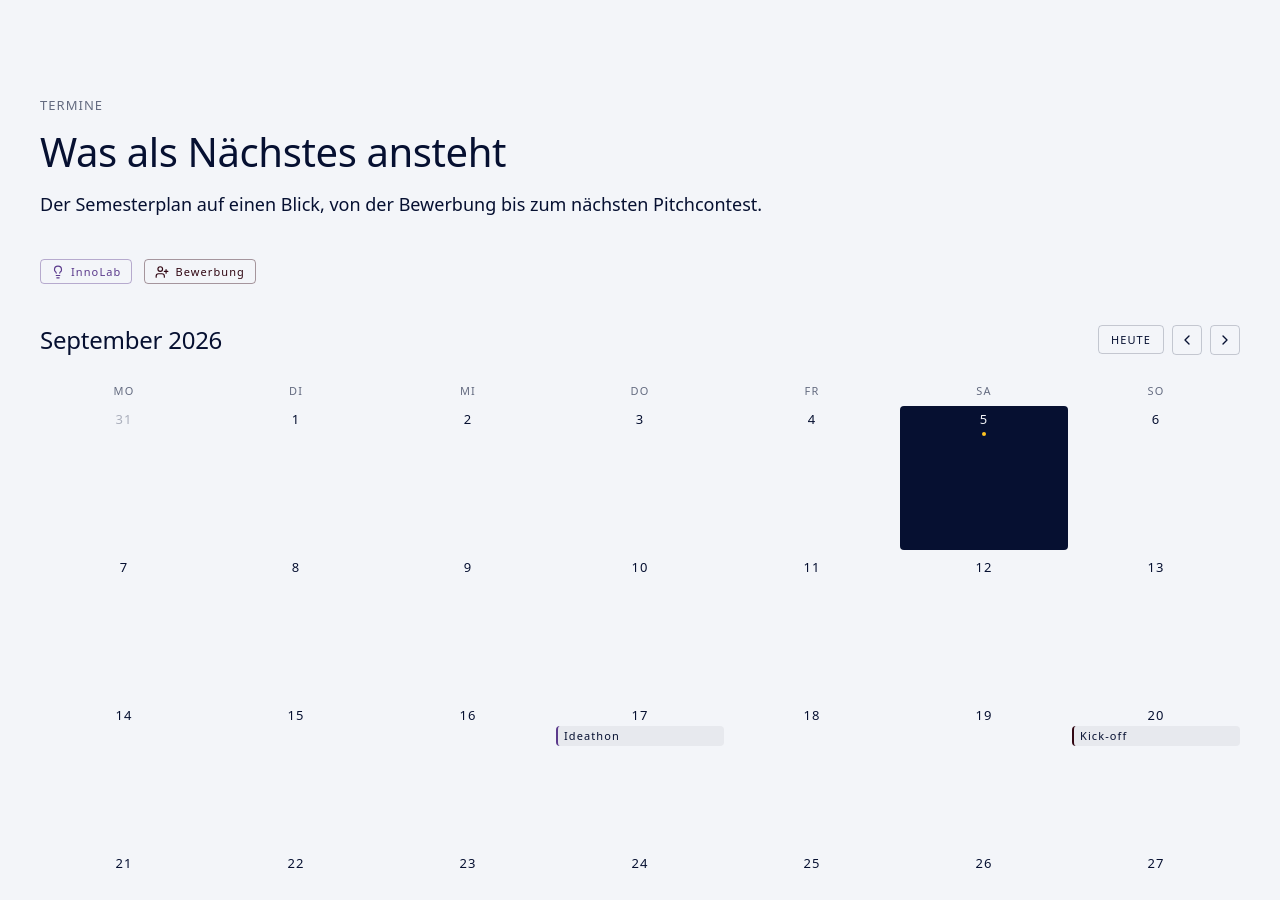
it: EventCalendar › selecting every visible category is equivalent to selecting none — a union, not an intersection
The width and height of the screenshot is (1280, 900).
Click the button "InnoLab".
click(86, 272)  # box [40,259,132,285]
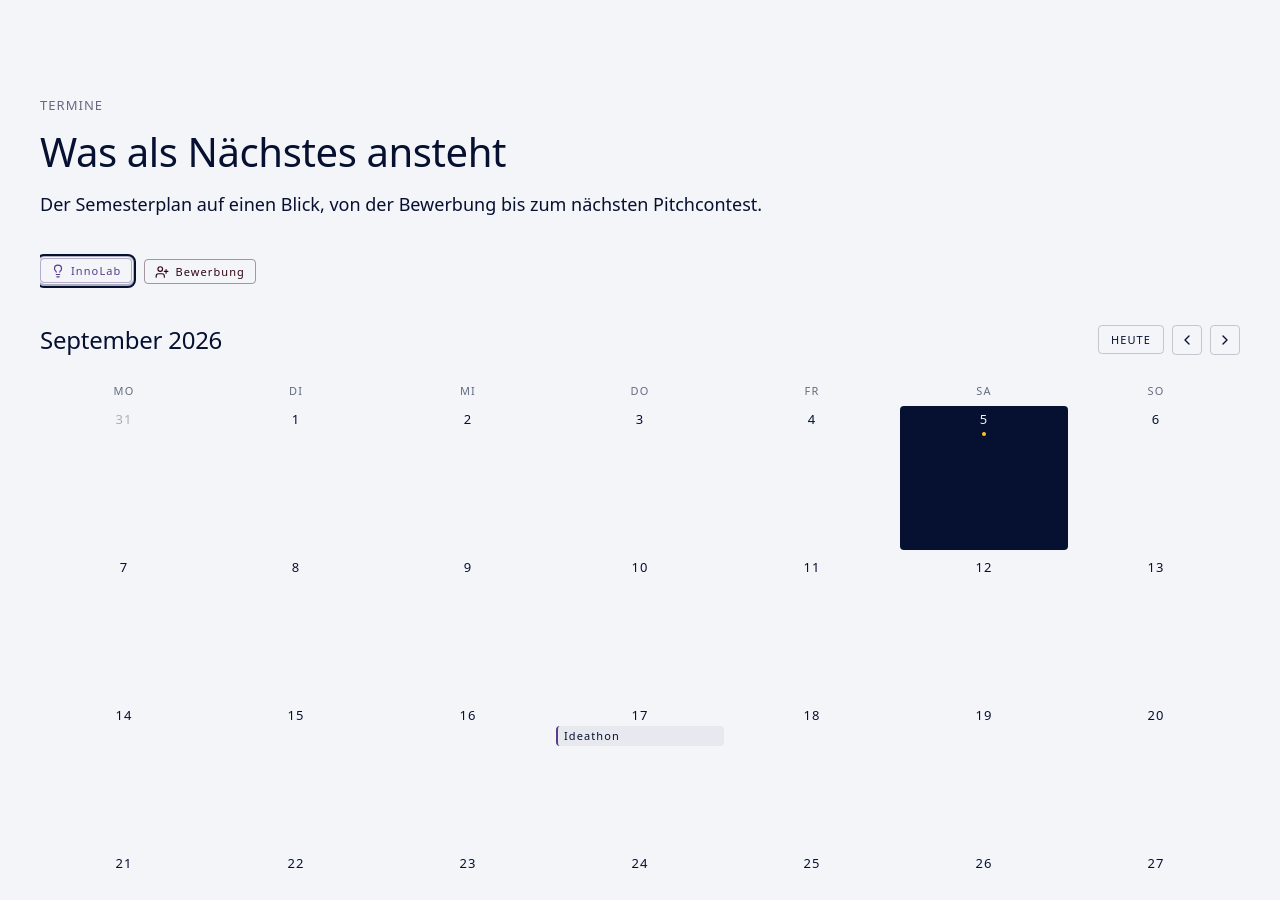
Click the button "Bewerbung".
click(200, 272)  # box [144,259,256,285]
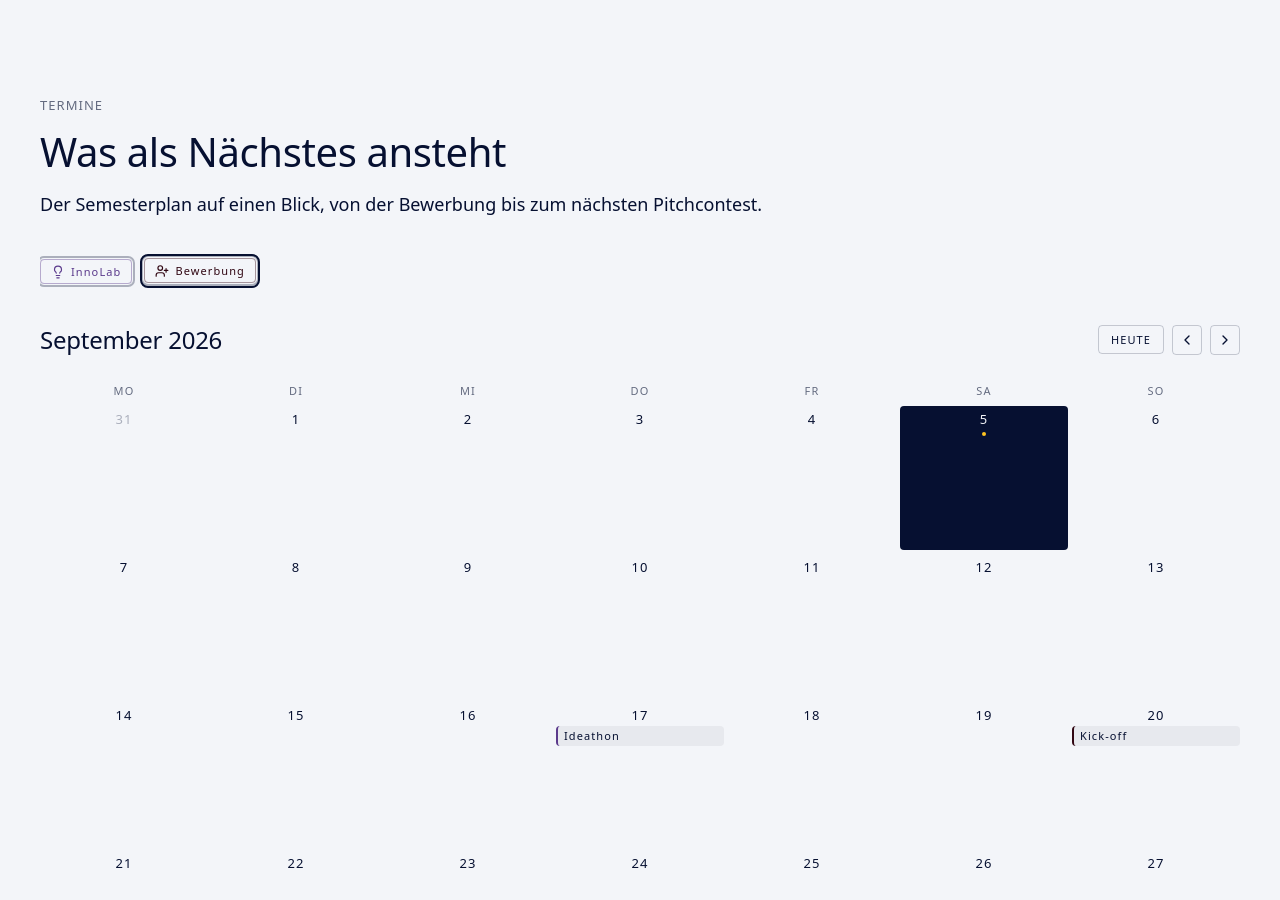
Check: the text "Ideathon" is shown, box [564,728,620,744]
Check: the text "Kick-off" is shown, box [1080,728,1127,744]
